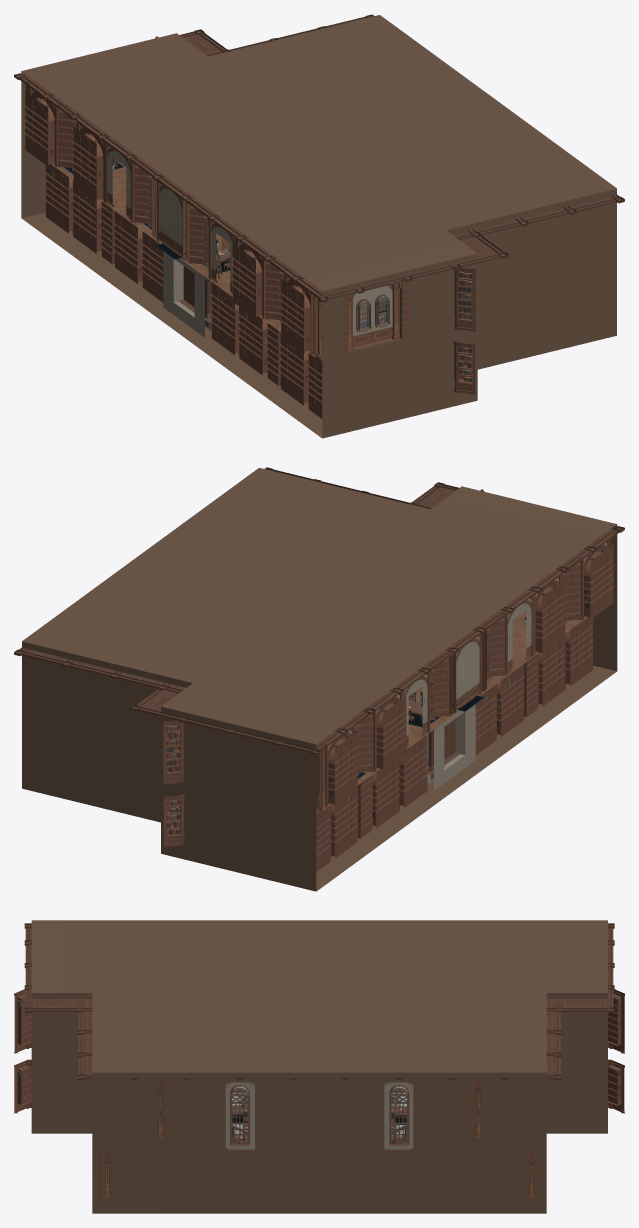
Rendered from IndoorScene_Md_Library.fbx.
3 renders of one model, top to bottom at view 1: azimuth 30°, elevation 25°; view 2: azimuth 150°, elevation 25°; view 3: azimuth 270°, elevation 25°, orthographic. The views are drawn at different scales.
Visible parts, largest first — view 1: Indoor_MdBuild_Library_Wall01_Vo, Indoor_MdProps_Library_Shelf01_Vo (×12), Indoor_MdBuild_Library_Ceiling01_Vo, Indoor_MdProps_Library_Shelf03_Vo (×5), Indoor_MdBuild_Library_Floor02_Vo, Indoor_MdProps_Library_Wall01_Vo, Indoor_MdProps_Library_Shelf02_Vo (×2), Indoor_MdProps_Library_Shelf07_Vo; view 2: Indoor_MdBuild_Library_Wall01_Vo, Indoor_MdProps_Library_Shelf01_Vo (×12), Indoor_MdBuild_Library_Ceiling01_Vo, Indoor_MdProps_Library_Shelf03_Vo (×5), Indoor_MdBuild_Library_Floor02_Vo, Indoor_MdProps_Library_Wall01_Vo, Indoor_MdProps_Library_Shelf02_Vo (×2), Indoor_MdProps_Library_Shelf07_Vo; view 3: Indoor_MdBuild_Library_Wall01_Vo, Indoor_MdBuild_Library_Ceiling01_Vo, Indoor_MdProps_Library_Shelf03_Vo (×2), Indoor_MdProps_Library_Shelf07_Vo (×2), Area_MdBuild_Window42_Vo (×2), Indoor_MdProps_Library_Pillar01_Vo (×2).
Part boxes in pixels (<box>): Indoor_MdBuild_Library_Wall01_Vo: <box>21,15,616,438</box>; Indoor_MdProps_Library_Shelf01_Vo (×12): <box>24,84,322,418</box>; Indoor_MdBuild_Library_Ceiling01_Vo: <box>14,14,624,302</box>; Indoor_MdProps_Library_Shelf03_Vo (×5): <box>57,104,475,331</box>; Indoor_MdBuild_Library_Floor02_Vo: <box>25,144,391,356</box>; Indoor_MdProps_Library_Wall01_Vo: <box>157,177,185,260</box>; Indoor_MdProps_Library_Shelf02_Vo (×2): <box>101,201,280,385</box>; Indoor_MdProps_Library_Shelf07_Vo: <box>453,341,475,394</box>; Indoor_MdBuild_Library_Wall01_Vo: <box>22,468,617,891</box>; Indoor_MdProps_Library_Shelf01_Vo (×12): <box>316,537,613,871</box>; Indoor_MdBuild_Library_Ceiling01_Vo: <box>14,467,624,755</box>; Indoor_MdProps_Library_Shelf03_Vo (×5): <box>163,557,581,784</box>; Indoor_MdBuild_Library_Floor02_Vo: <box>322,597,614,809</box>; Indoor_MdProps_Library_Wall01_Vo: <box>453,630,481,713</box>; Indoor_MdProps_Library_Shelf02_Vo (×2): <box>358,654,537,838</box>; Indoor_MdProps_Library_Shelf07_Vo: <box>163,794,184,847</box>; Indoor_MdBuild_Library_Wall01_Vo: <box>31,920,607,1213</box>; Indoor_MdBuild_Library_Ceiling01_Vo: <box>24,923,614,1080</box>; Indoor_MdProps_Library_Shelf03_Vo (×2): <box>14,988,624,1053</box>; Indoor_MdProps_Library_Shelf07_Vo (×2): <box>14,1059,624,1113</box>; Area_MdBuild_Window42_Vo (×2): <box>231,1086,408,1144</box>; Indoor_MdProps_Library_Pillar01_Vo (×2): <box>157,1079,481,1138</box>.
Size of the model in its own units: 28.06 by 11.74 by 46.13.
Materials: 25 (25 with a texture image).
